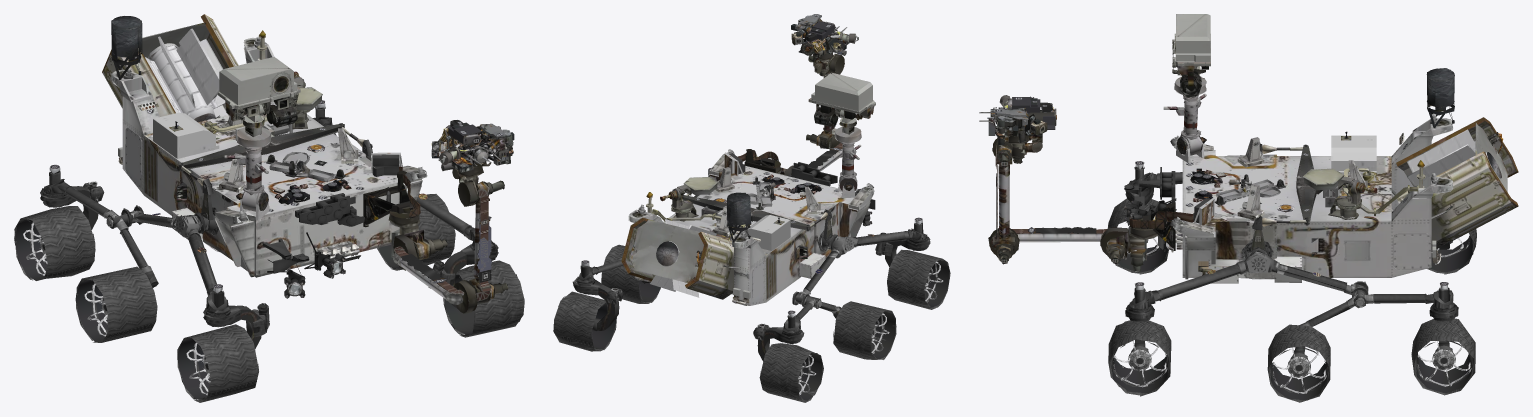
The model's file is mars-rover.glb.
The picture shows the model from 3 angles, left to right: view 1: azimuth 30°, elevation 25°; view 2: azimuth 150°, elevation 25°; view 3: azimuth 270°, elevation 25°; orthographic projection. The views are drawn at different scales.
Parts seen in each view (by area): view 1: Object_3, Object_8, Object_1, Object_2, Object_4, Object_6, Object_0, Object_5; view 2: Object_8, Object_3, Object_4, Object_1, Object_2, Object_6, Object_0, Object_5; view 3: Object_3, Object_1, Object_2, Object_8, Object_4, Object_6, Object_0.
Boxes of the visible parts, left/top/right/bottom form: Object_3: left=72, top=16, right=468, bottom=349; Object_8: left=14, top=194, right=524, bottom=402; Object_1: left=40, top=14, right=508, bottom=327; Object_2: left=112, top=38, right=491, bottom=304; Object_4: left=142, top=22, right=514, bottom=301; Object_6: left=262, top=154, right=398, bottom=296; Object_0: left=147, top=108, right=502, bottom=283; Object_5: left=153, top=119, right=177, bottom=158; Object_8: left=553, top=244, right=950, bottom=402; Object_3: left=597, top=149, right=901, bottom=361; Object_4: left=629, top=14, right=875, bottom=282; Object_1: left=572, top=33, right=930, bottom=344; Object_2: left=629, top=49, right=873, bottom=255; Object_6: left=729, top=153, right=875, bottom=301; Object_0: left=696, top=14, right=874, bottom=273; Object_5: left=771, top=220, right=790, bottom=250; Object_3: left=1124, top=68, right=1454, bottom=351; Object_1: left=987, top=115, right=1518, bottom=326; Object_2: left=993, top=118, right=1453, bottom=279; Object_8: left=1107, top=198, right=1476, bottom=402; Object_4: left=979, top=14, right=1507, bottom=250; Object_6: left=1124, top=167, right=1432, bottom=261; Object_0: left=995, top=97, right=1407, bottom=276.
Bounding box in the file's own units: 0.4165 × 0.3316 × 0.6.
9 materials, 7 textured.
